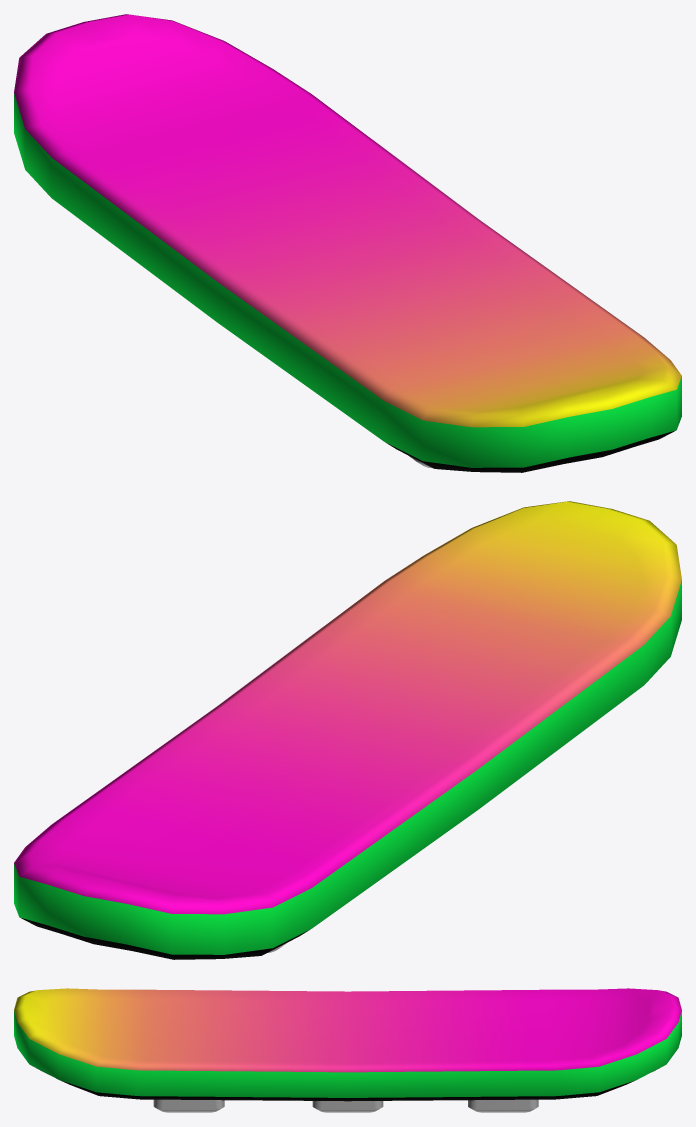
The model's file is Hoverboard.fbx.
The picture shows the model from 3 angles, top to bottom: view 1: azimuth 30°, elevation 25°; view 2: azimuth 150°, elevation 25°; view 3: azimuth 270°, elevation 25°; orthographic projection. The views are drawn at different scales.
Visible parts, largest first — view 1: pCube5; view 2: pCube5; view 3: pCube5.
Boxes of the visible parts, bbox=[...] form: pCube5: bbox=[14, 14, 681, 472]; pCube5: bbox=[14, 501, 681, 959]; pCube5: bbox=[14, 988, 681, 1112].
Size of the model in its own units: 2.42 by 1.2 by 8.52.
